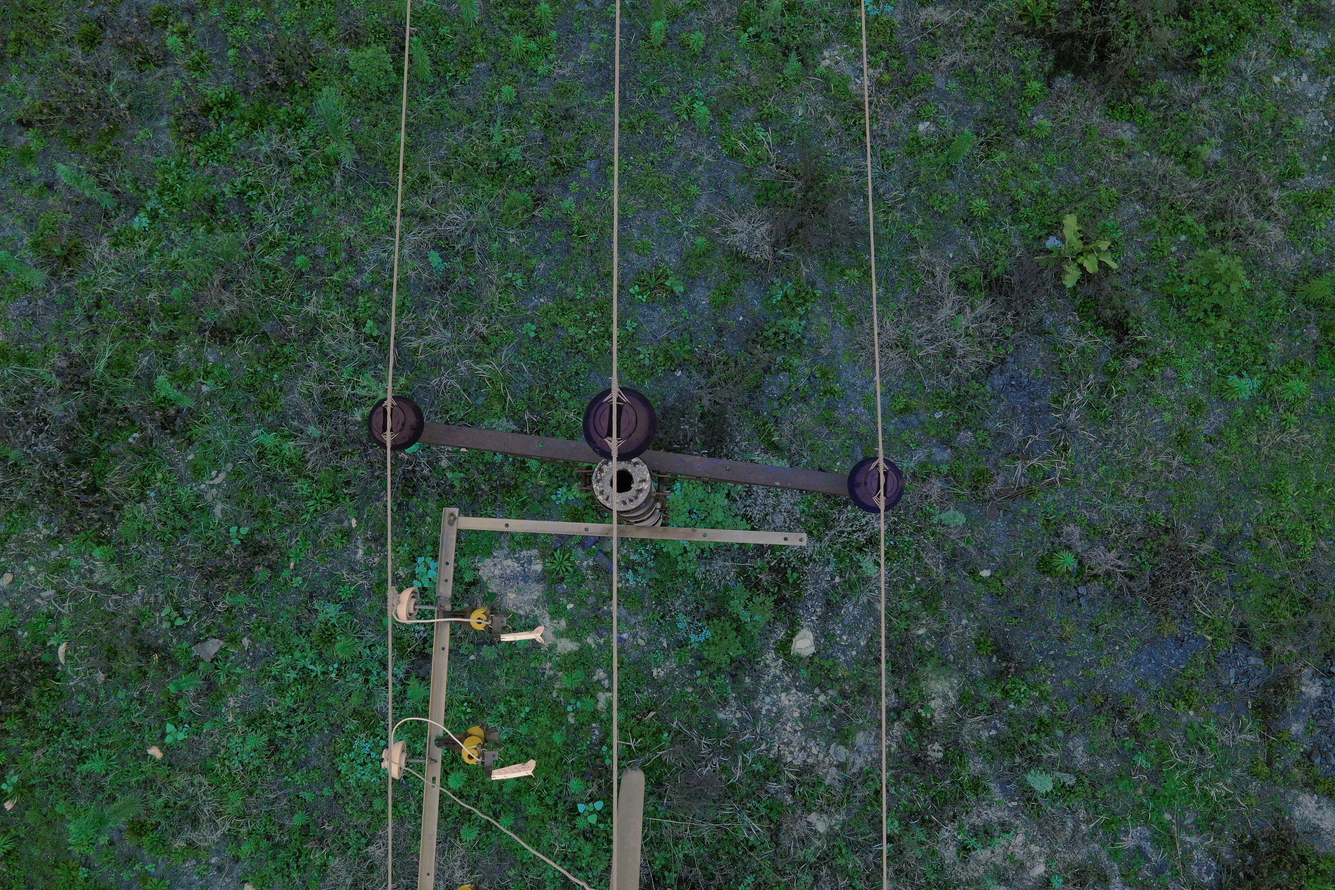severe_soiling_no_discharge_whole: (390, 586, 421, 625)
